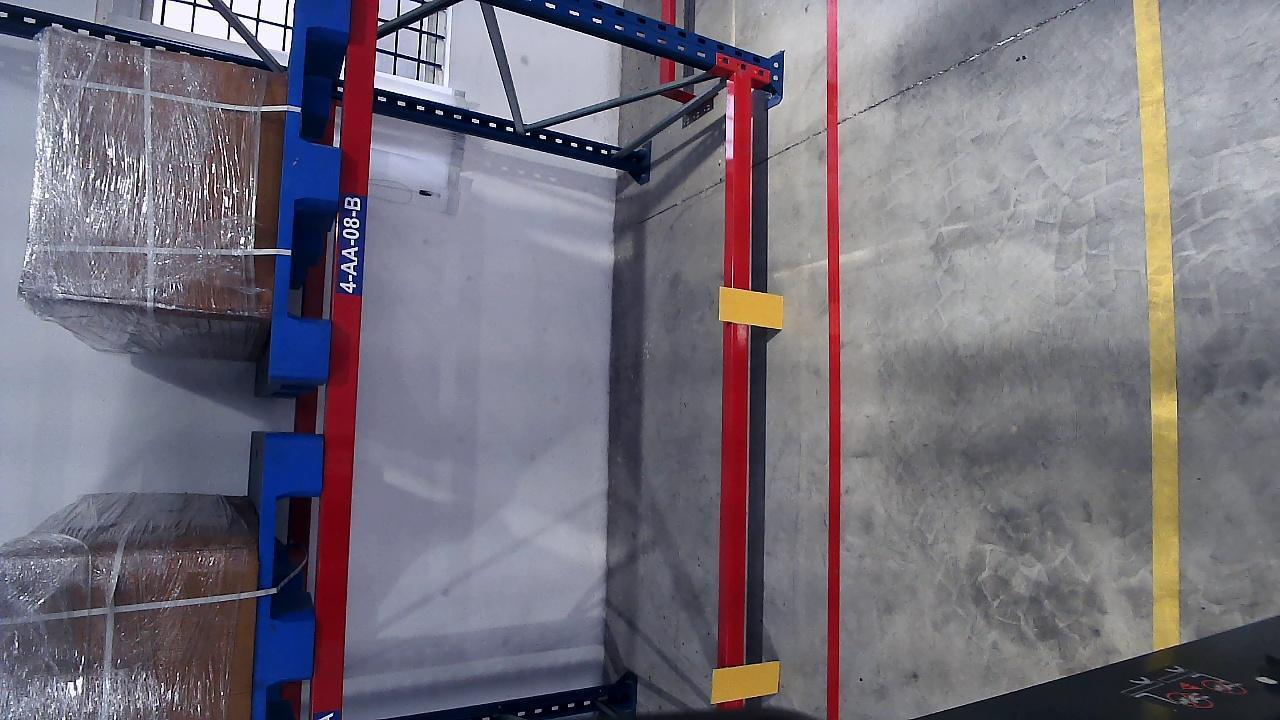red_line: (828, 0, 839, 720)
yellow_line: (1135, 0, 1181, 644)
